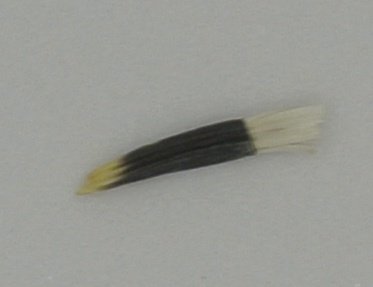เมล็ดดีติดกัน: (71, 98, 335, 199)
